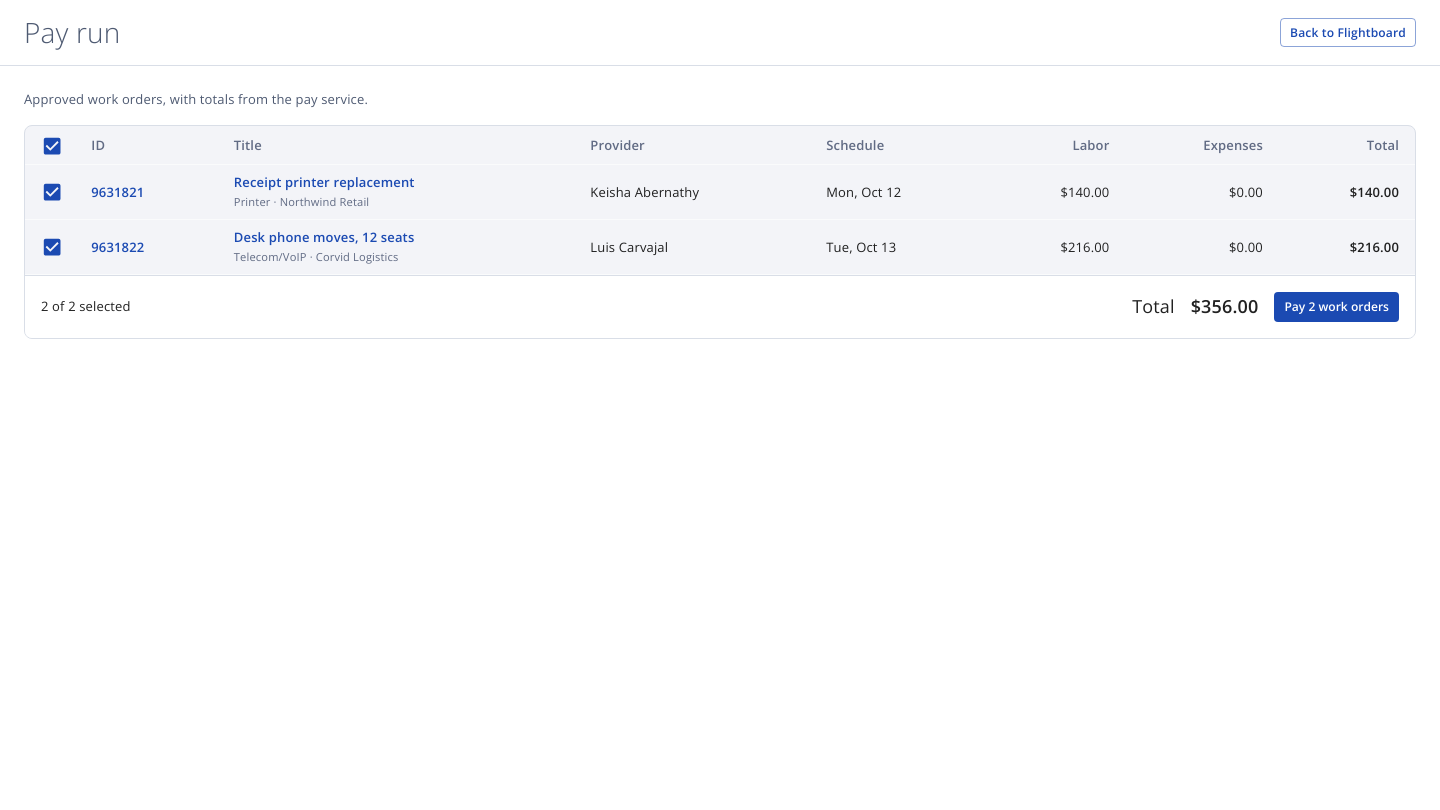
PayRunPage › pays only the selected work order using its total and the returned count
Expected: the text "$356.00" is shown, [1191,294,1258,320]
Click the checkbox named "Select WO 9631821": (52, 192) [41,181,63,204]
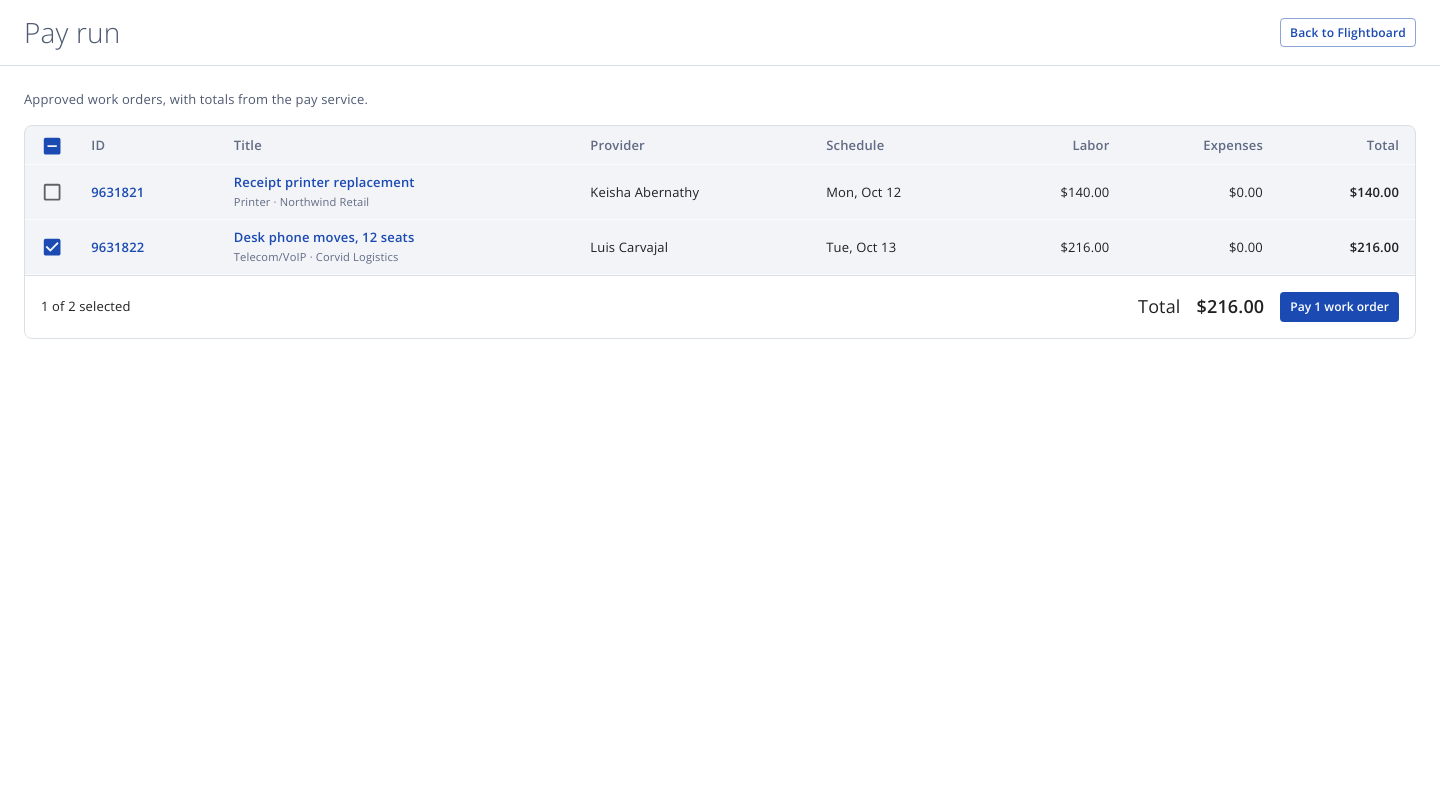
Click the button "Pay 1 work order": (1340, 307) [1280,292,1399,322]
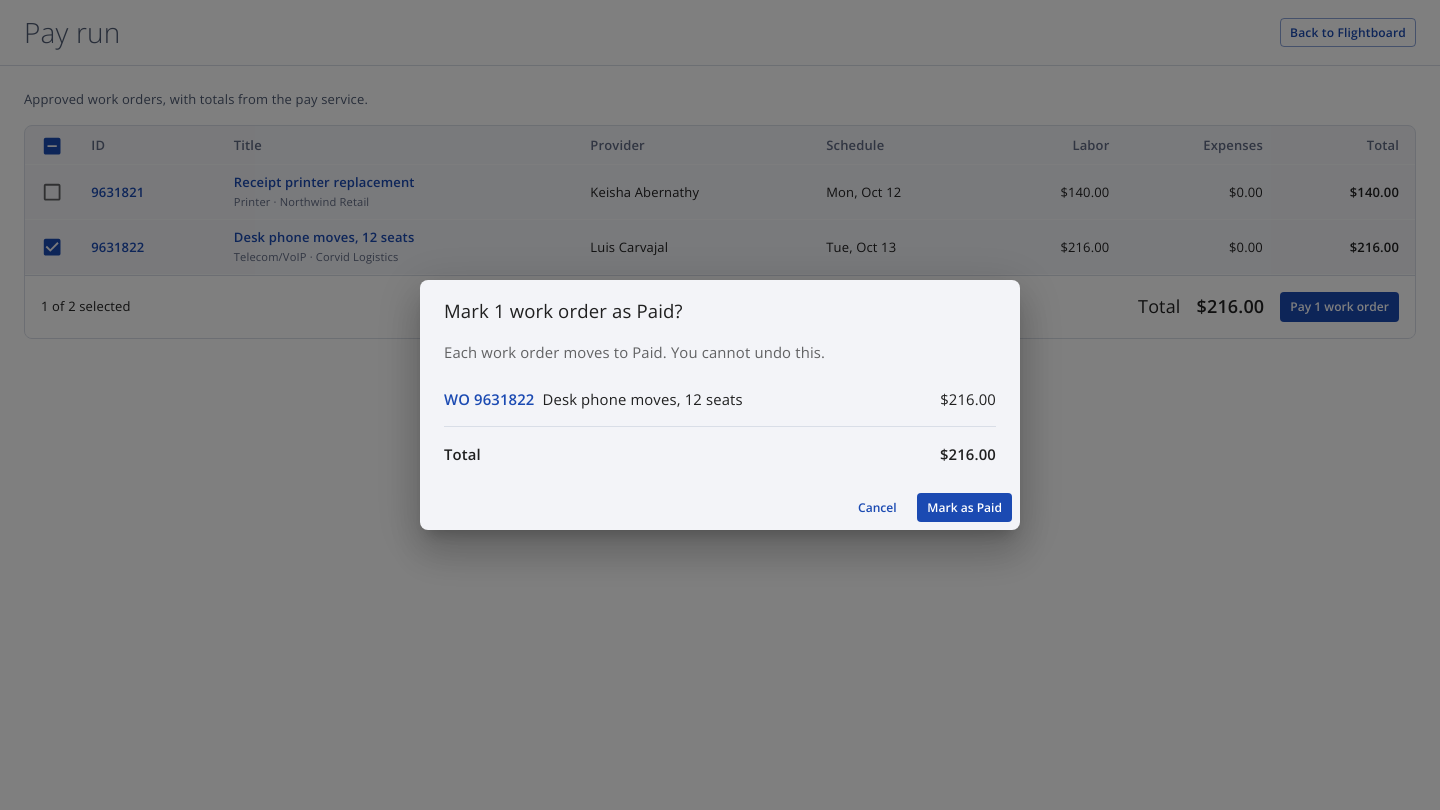
Click the button "Mark as Paid": (965, 508) [917,493,1012,522]
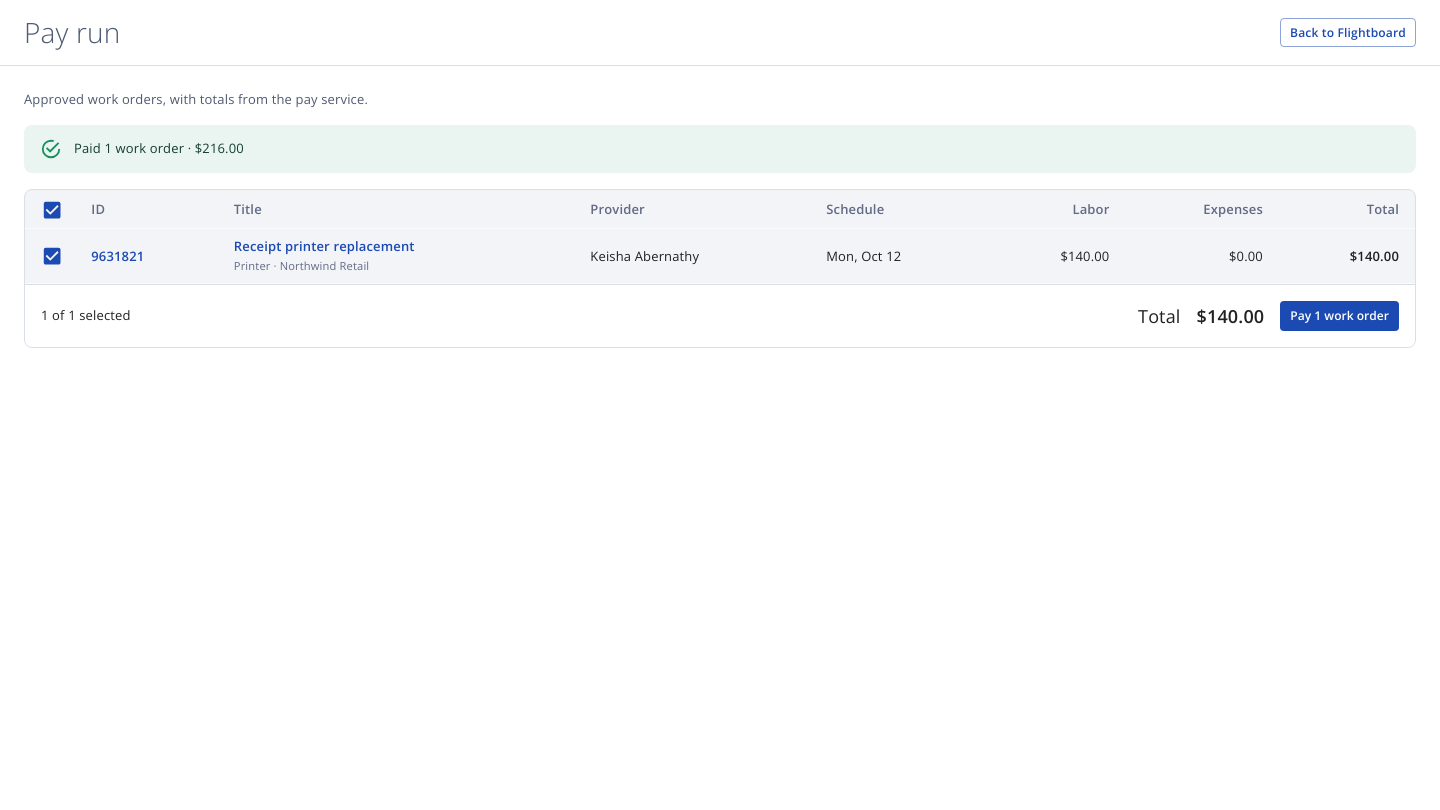
Expected: the text "1 of 1 selected" is shown, [41,306,131,326]
